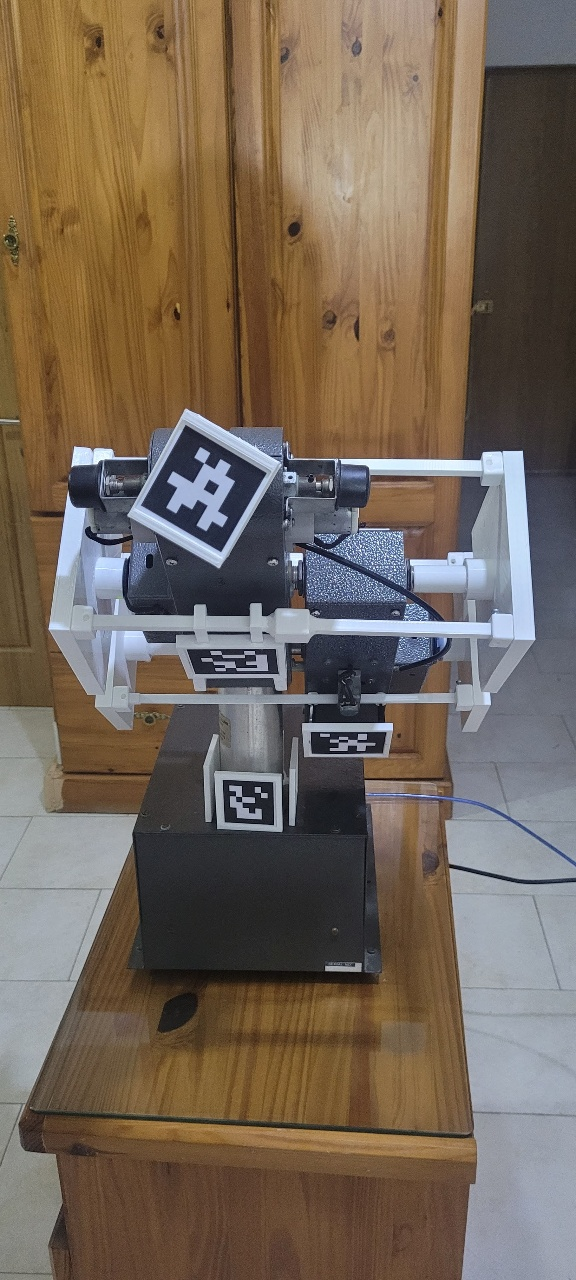Robot: (47, 407, 538, 838)
